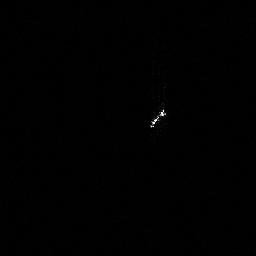ship: (150, 107, 167, 131)
